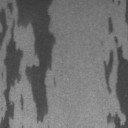red iron: (0, 0, 56, 128), (102, 35, 128, 128), (0, 8, 9, 50), (107, 16, 114, 36), (19, 93, 25, 112), (7, 2, 14, 16), (124, 0, 128, 24), (53, 76, 57, 86), (117, 0, 122, 7)
